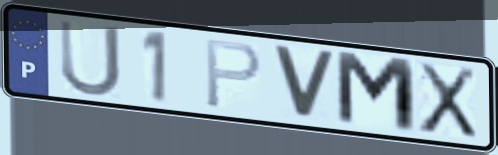1: (139, 29, 169, 107)
M: (332, 48, 421, 138)
P: (203, 37, 265, 112)
U: (55, 16, 124, 99)
V: (269, 42, 340, 124)
X: (414, 60, 480, 142)
